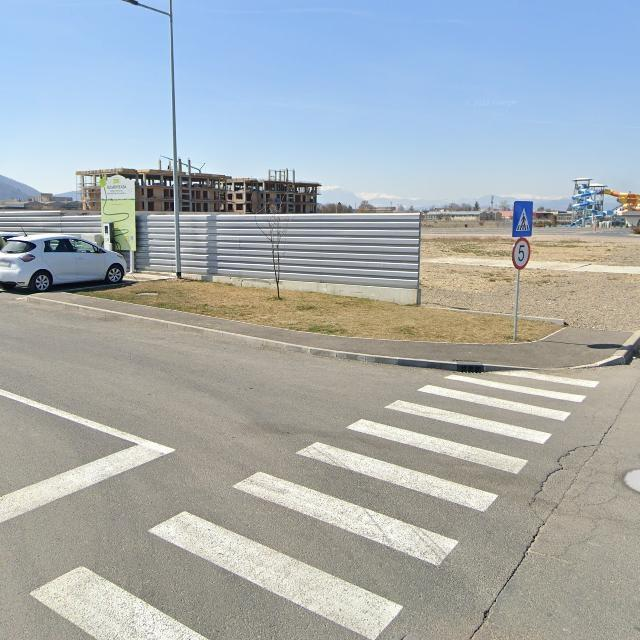info_crosswalk: (512, 201, 533, 237)
